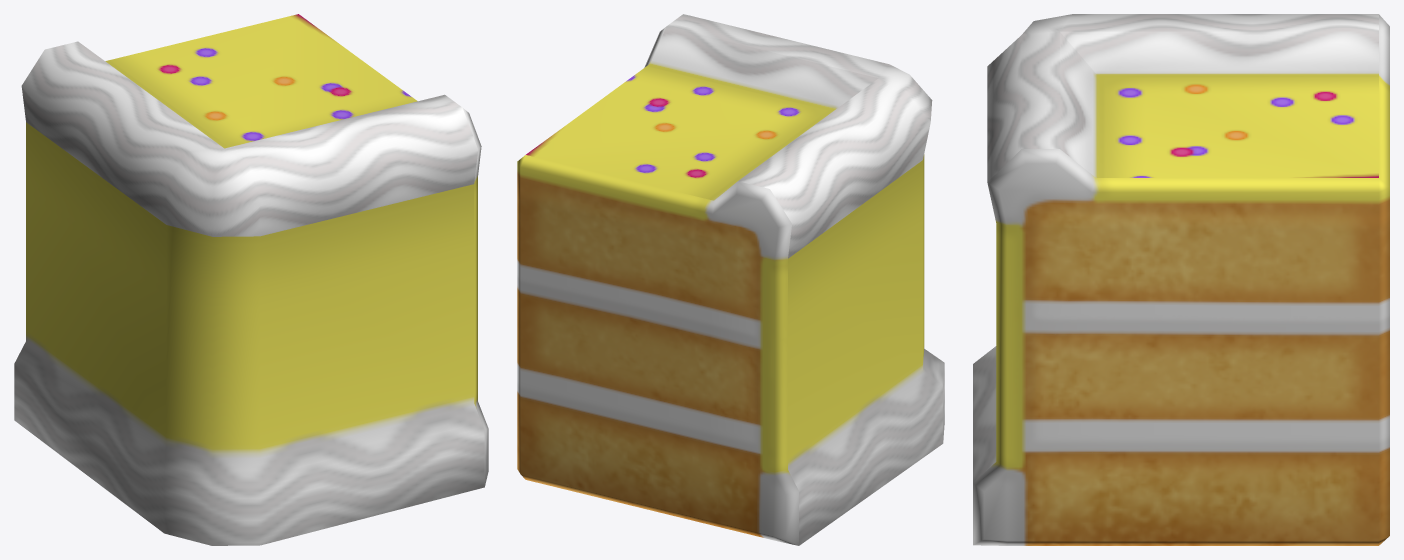
The model's file is Congrats_SheetCake_Slice.fbx.
3 renders of one model, left to right at view 1: azimuth 30°, elevation 25°; view 2: azimuth 150°, elevation 25°; view 3: azimuth 270°, elevation 25°, orthographic. The views are drawn at different scales.
Parts seen in each view (by area): view 1: Congrats_SheetCake_Slice; view 2: Congrats_SheetCake_Slice; view 3: Congrats_SheetCake_Slice.
Boxes of the visible parts, x1,y1,x2,y2 form: Congrats_SheetCake_Slice: (14, 14, 488, 545); Congrats_SheetCake_Slice: (517, 14, 944, 545); Congrats_SheetCake_Slice: (973, 14, 1389, 545).
Size of the model in its own units: 27.83 by 33.31 by 31.46.
